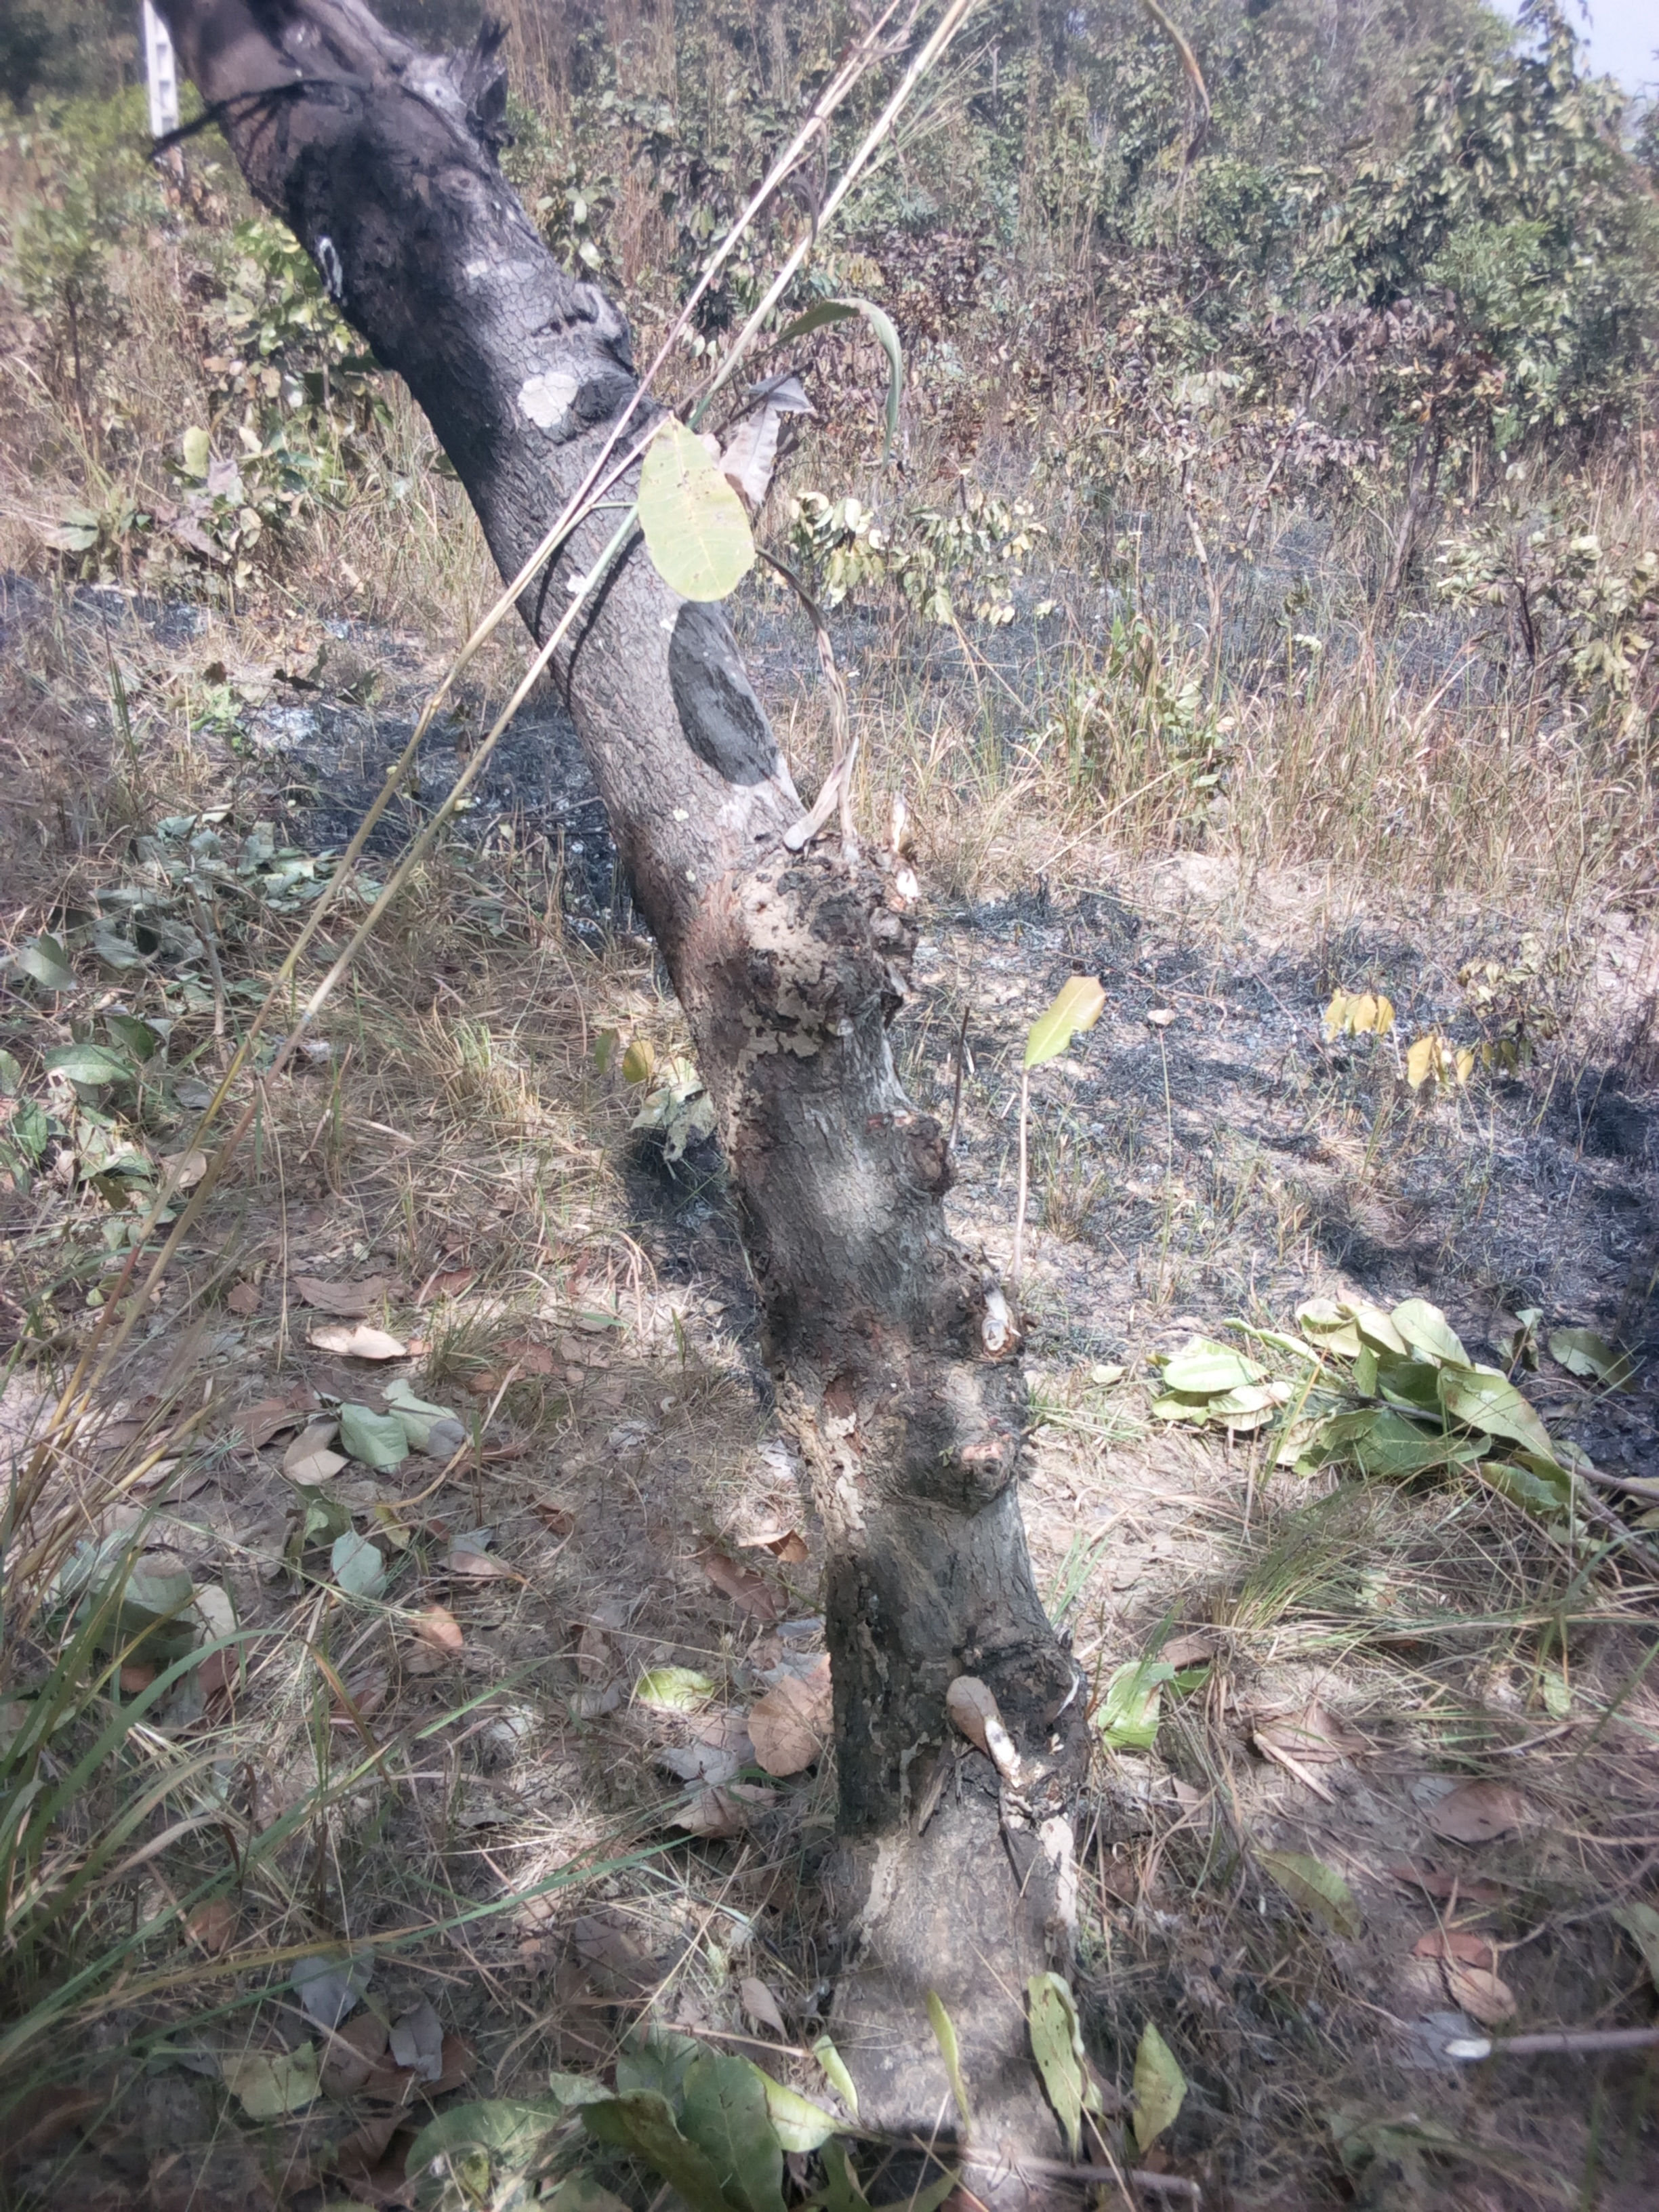Termites: (721, 827, 890, 1235), (798, 1329, 911, 1644)
